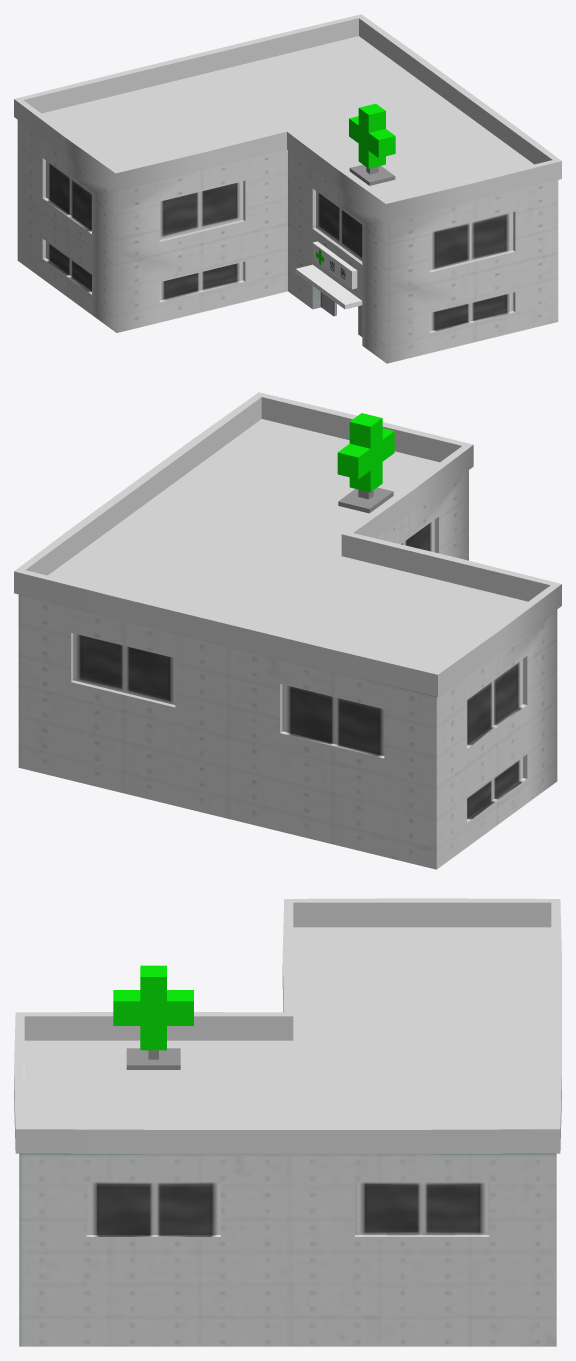
The model's file is City_hospital_door_open.FBX.
The picture shows the model from 3 angles, top to bottom: view 1: azimuth 30°, elevation 25°; view 2: azimuth 150°, elevation 25°; view 3: azimuth 270°, elevation 25°; orthographic projection. The views are drawn at different scales.
Visible parts, largest first — view 1: Box001; view 2: Box001; view 3: Box001.
Part boxes in pixels (x1,y1,x2,y2): Box001: [14, 14, 561, 363]; Box001: [14, 392, 561, 869]; Box001: [14, 898, 561, 1346].
Bounding box in the file's own units: 2040 × 1170 × 2040.
